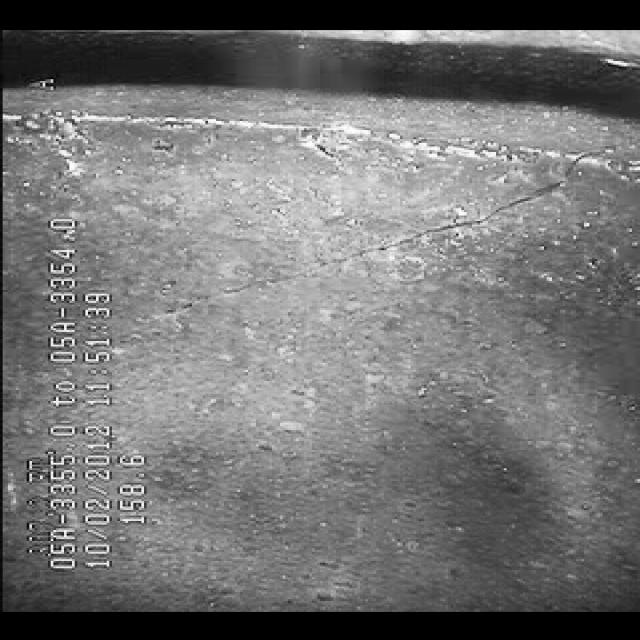Crack: (148, 170, 592, 332)
